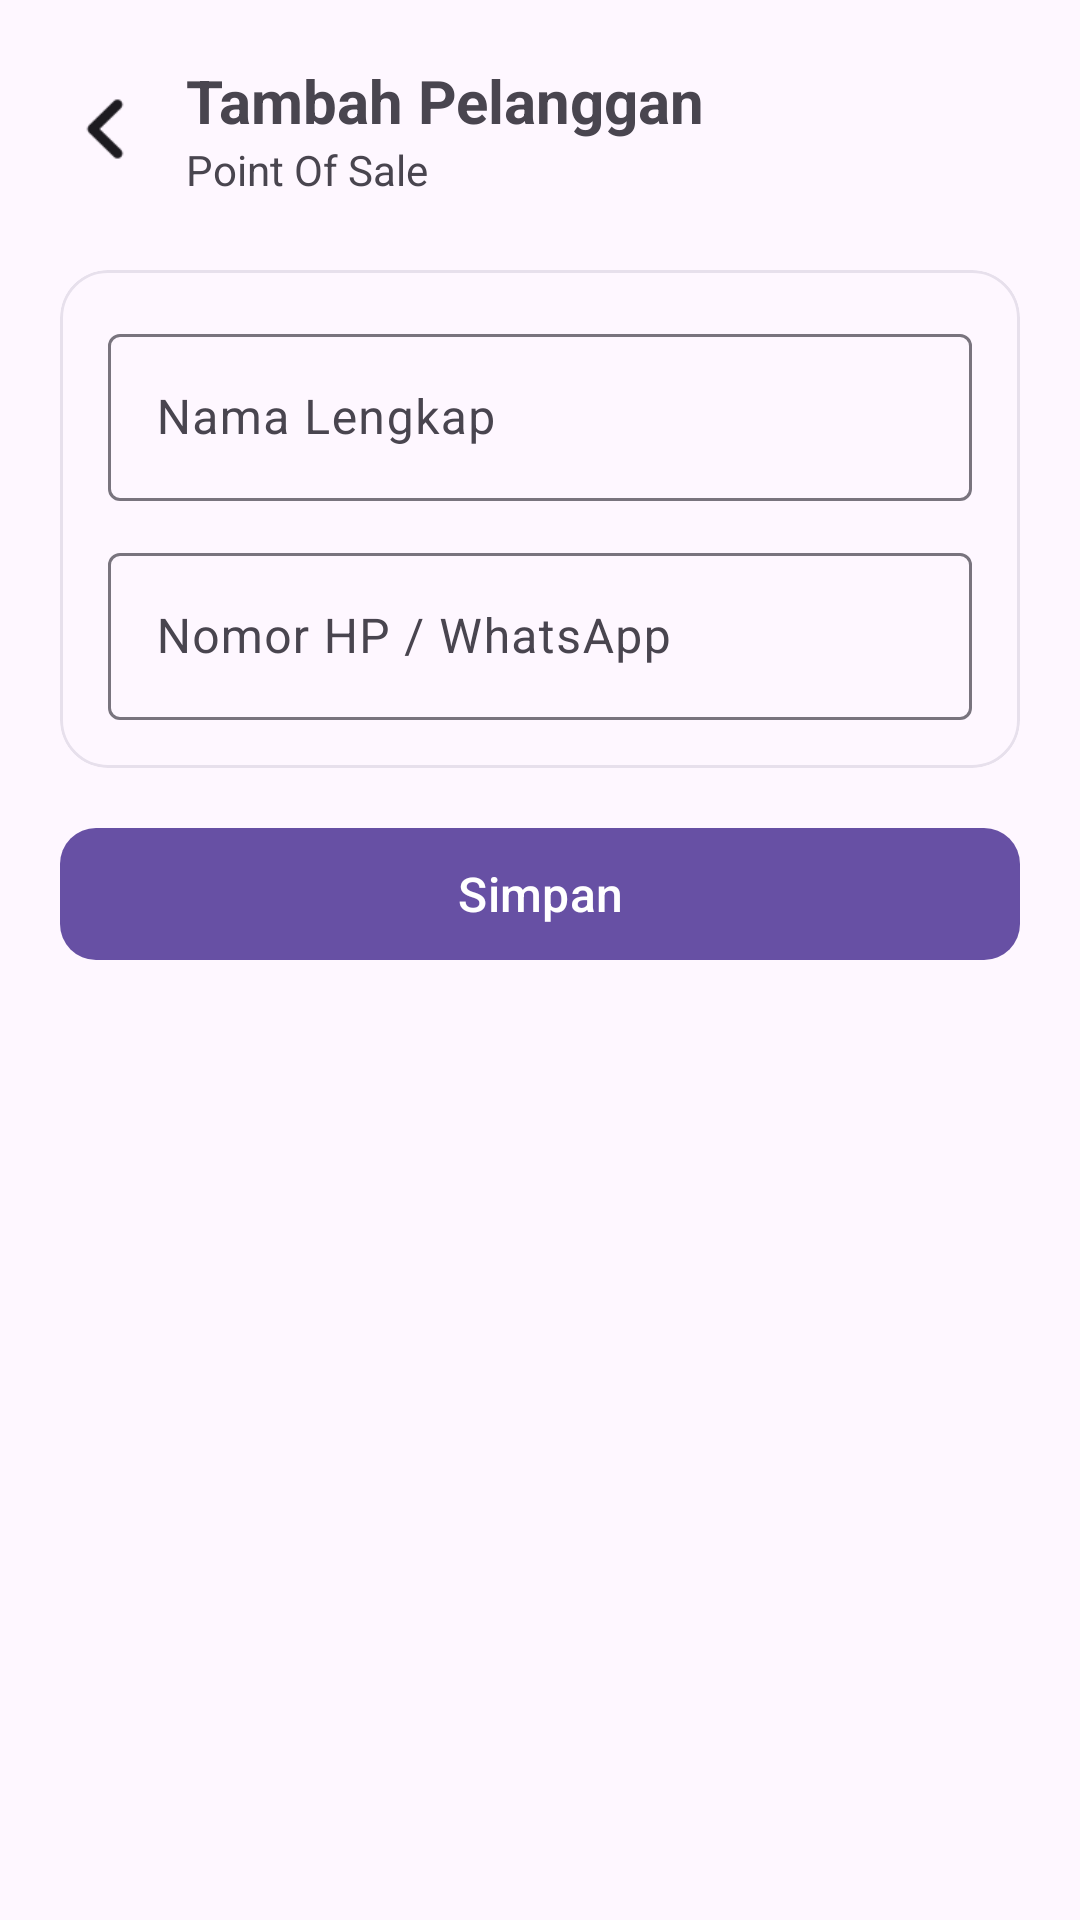

Icon bounding boxes for this 1080*1920 phone screenshot, format (x1, y1, x2, y2):
kembali: (86, 99, 124, 159)
